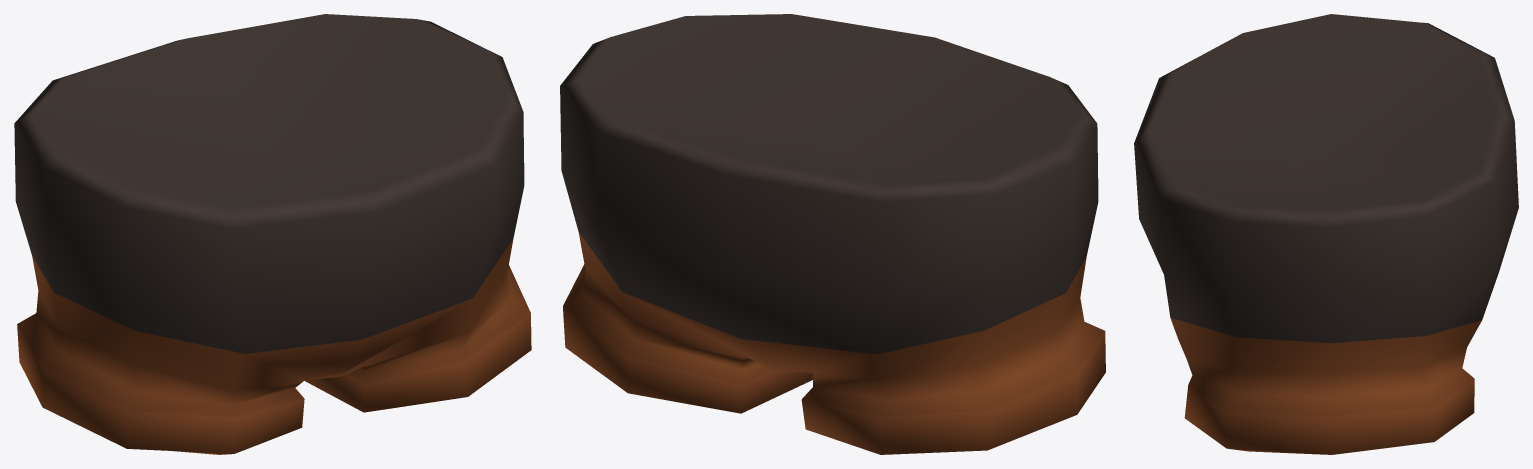
File: Bottom_39.fbx
3 views of the same model, side by side, from view 1: azimuth 30°, elevation 25°; view 2: azimuth 150°, elevation 25°; view 3: azimuth 270°, elevation 25° (orthographic). The views are drawn at different scales.
Parts seen in each view (by area): view 1: Bottom_39; view 2: Bottom_39; view 3: Bottom_39.
Part boxes in pixels (<box>): Bottom_39: <box>14,14,531,454</box>; Bottom_39: <box>560,14,1105,454</box>; Bottom_39: <box>1134,14,1518,454</box>.
Bounding box in the file's own units: 38.94 × 22.89 × 29.68.
